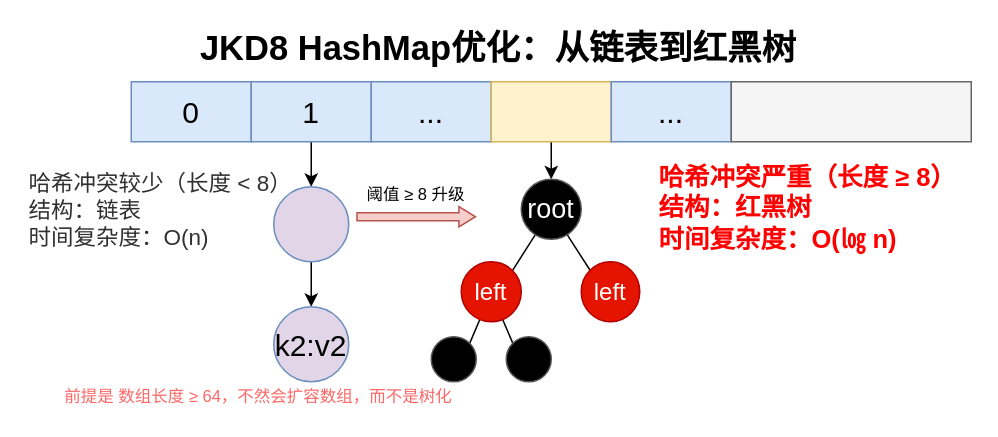
Image size: 998x437. Some labels were removed from this diagram. The shapes that lost their labels are listed below. From the top down, each one's centre as x and y in pixels, then its label:
the point at 550,111: 索引 k
the point at 310,223: k1:v1
